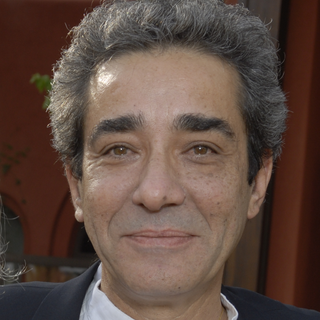eye: (177, 138, 229, 166), (94, 142, 141, 164)
